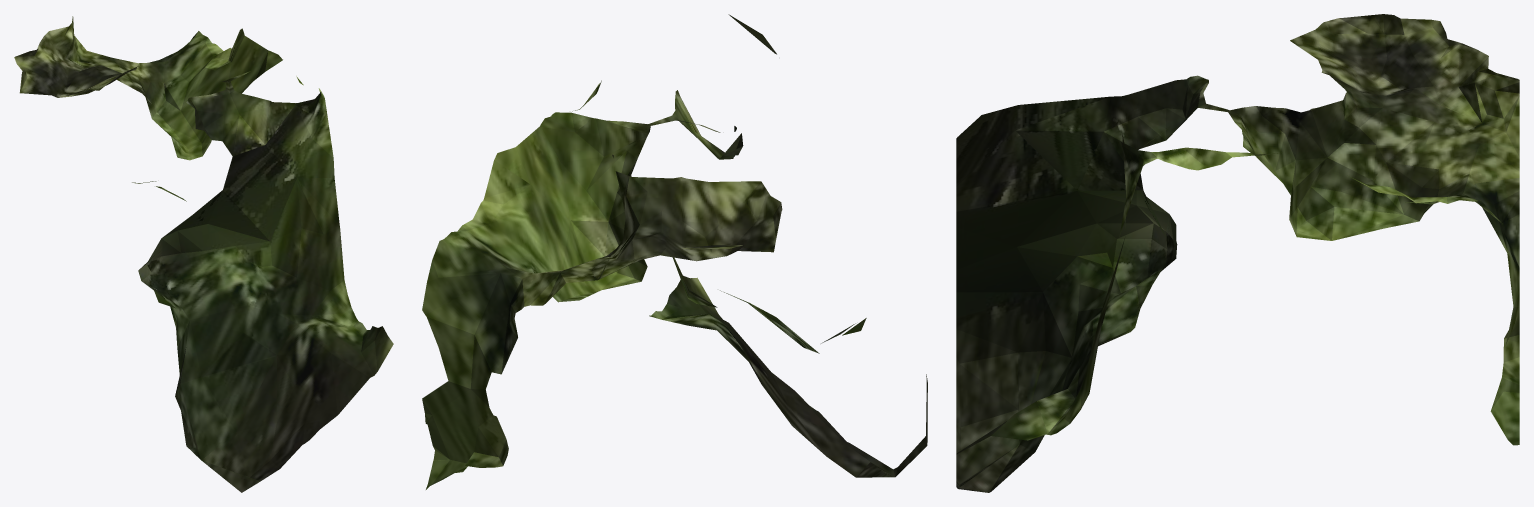
3 views of the same model, side by side, from view 1: azimuth 30°, elevation 25°; view 2: azimuth 150°, elevation 25°; view 3: azimuth 270°, elevation 25° (orthographic). The views are drawn at different scales.
Size of the model in its own units: 1.77 by 2.49 by 2.95.
Materials: 3 (3 with a texture image).
